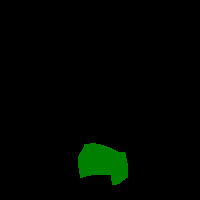mutande: (78, 143, 128, 185)
